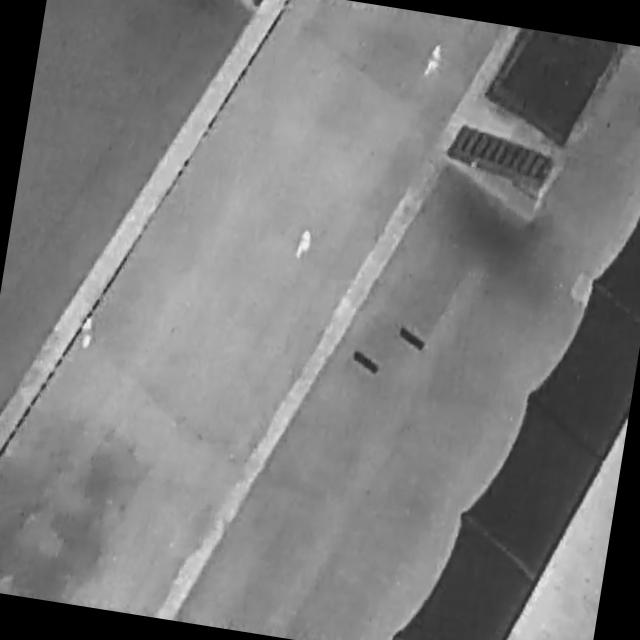person: (421, 39, 450, 83), (293, 228, 316, 263), (78, 316, 98, 353)
